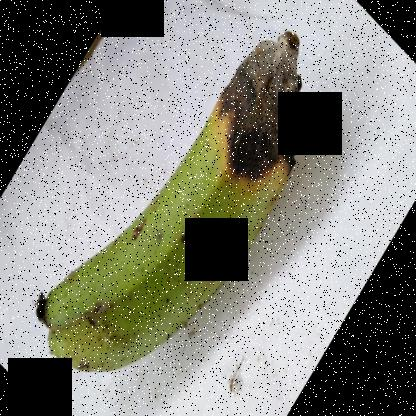rotten: (188, 10, 325, 206)
unripe: (35, 145, 244, 393)
